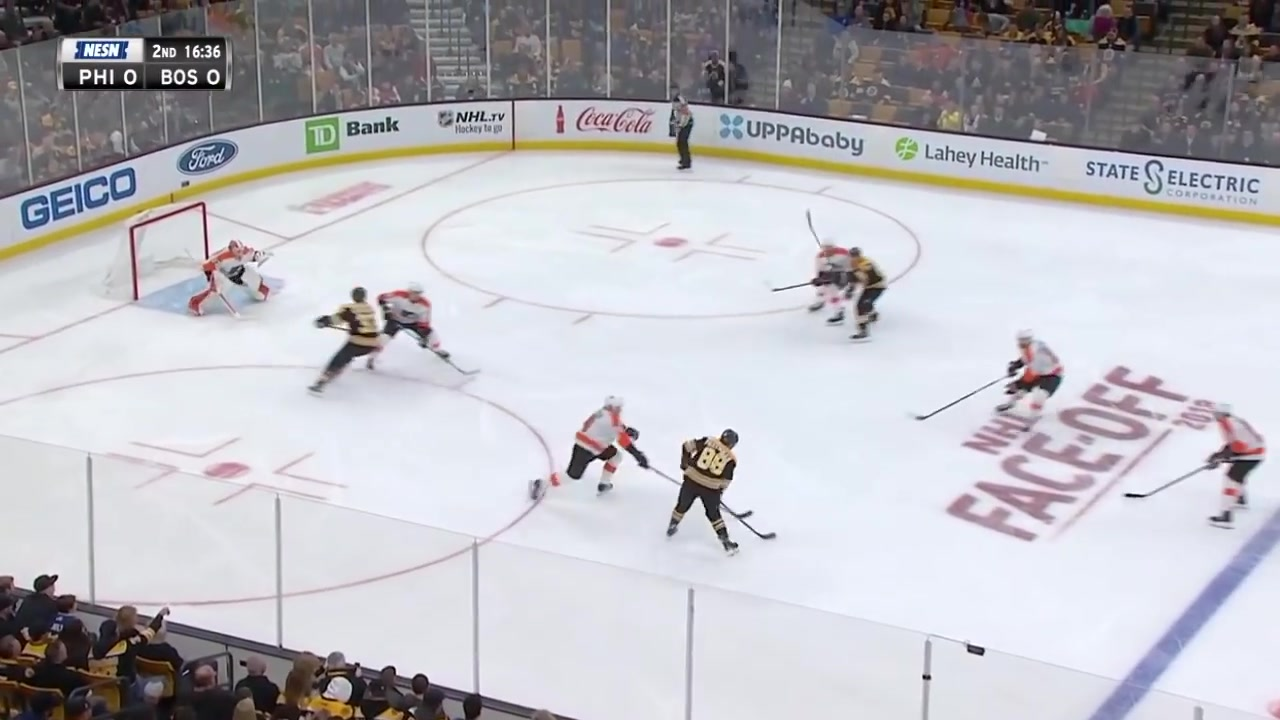Geico: (17, 164, 146, 235)
